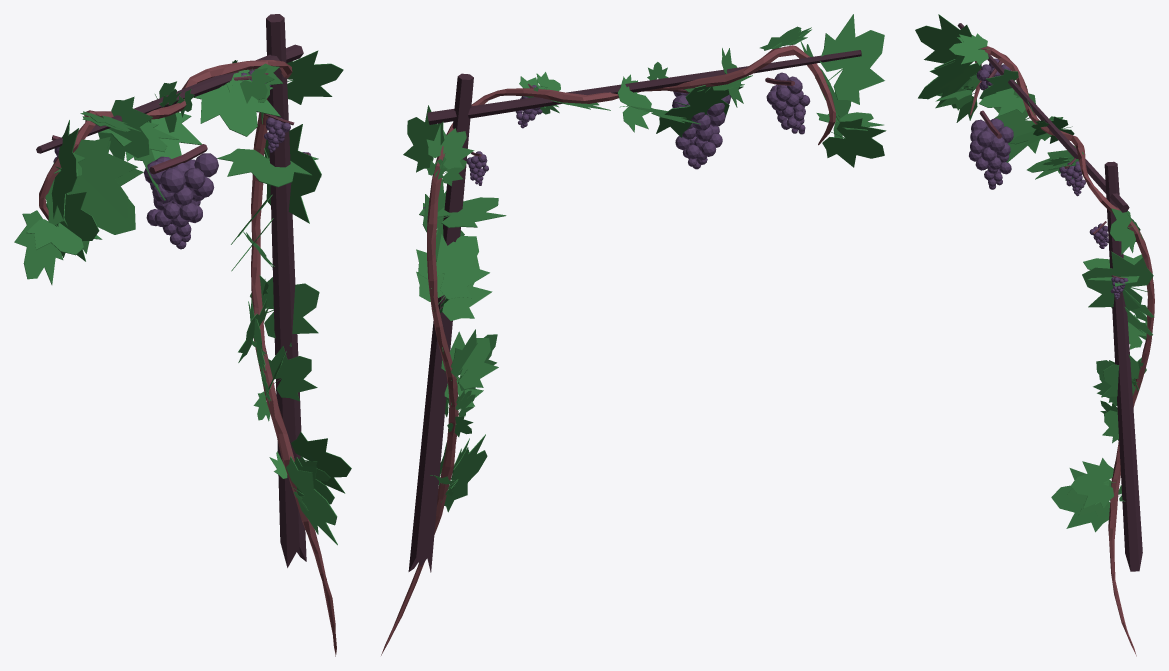
Rendered from Grape.fbx.
The picture shows the model from 3 angles, left to right: view 1: azimuth 30°, elevation 25°; view 2: azimuth 150°, elevation 25°; view 3: azimuth 270°, elevation 25°; orthographic projection. The views are drawn at different scales.
Parts seen in each view (by area): view 1: grape; view 2: grape; view 3: grape.
Part boxes in pixels (x1,y1,x2,y2): grape: [14, 14, 351, 656]; grape: [381, 14, 886, 655]; grape: [915, 14, 1154, 656].
Bounding box in the file's own units: 435 × 673 × 288.
Materials: 1 (1 with a texture image).
